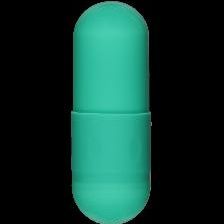21695-523: (0, 0, 224, 224)
